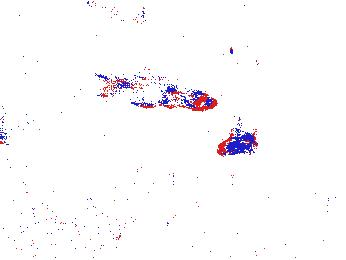X-ray fish: (83, 207, 143, 235)
red belly glassfish: (216, 133, 256, 158)
redtail glassfish: (101, 69, 220, 112), (82, 1, 153, 25)
